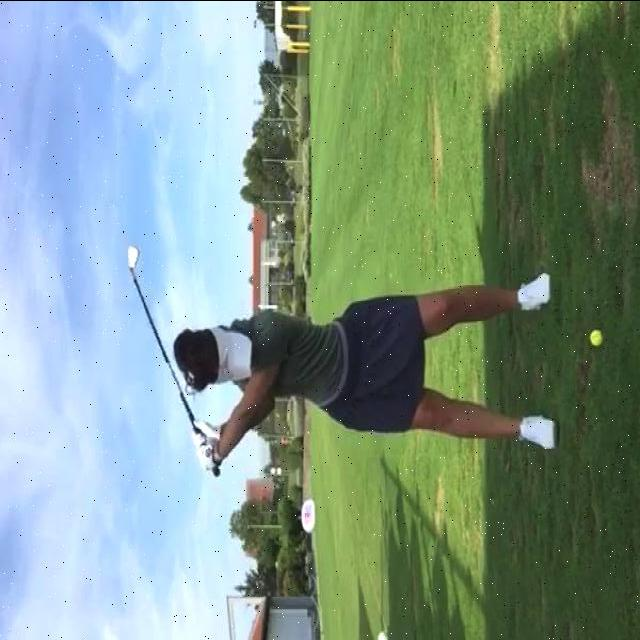golf ball: (590, 328, 603, 345)
golf club-handle: (129, 245, 220, 474)
golf club-head: (129, 247, 140, 268)
